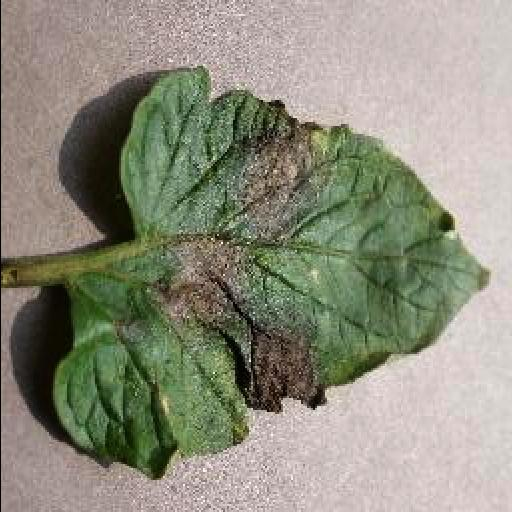disease_tomato: (51, 70, 485, 482)
